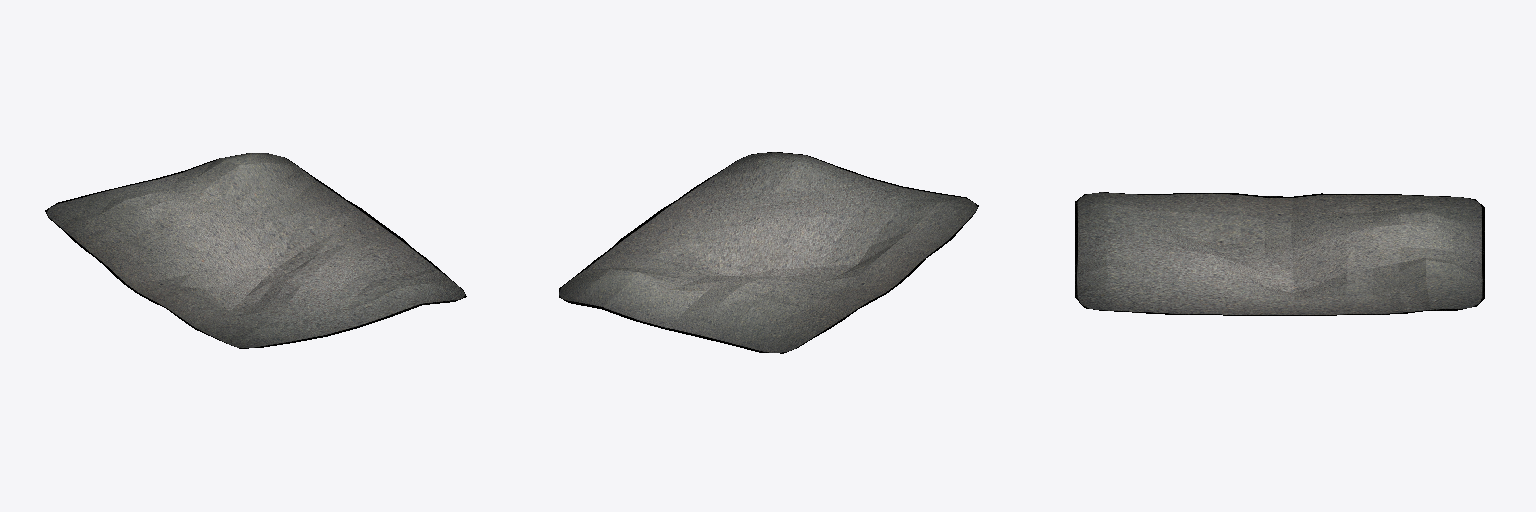
3 views of the same model, side by side, from view 1: azimuth 30°, elevation 25°; view 2: azimuth 150°, elevation 25°; view 3: azimuth 270°, elevation 25° (orthographic).
Parts seen in each view (by area): view 1: polySurface1 litter3; view 2: polySurface1 litter3; view 3: polySurface1 litter3.
Boxes of the visible parts, <box> form: polySurface1 litter3: <box>45,153,466,348</box>; polySurface1 litter3: <box>559,152,978,353</box>; polySurface1 litter3: <box>1075,192,1484,315</box>.
Bounding box in the file's own units: 0.9902 × 0.1752 × 1.39.
Materials: 1 (1 with a texture image).